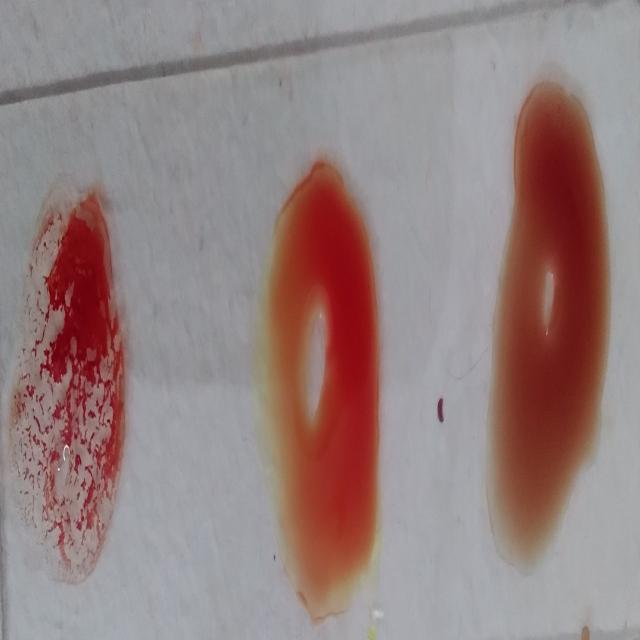D: (28, 212, 130, 588)
